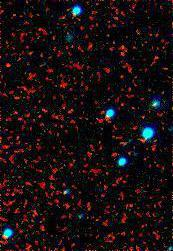star: (0, 50, 24, 80)
